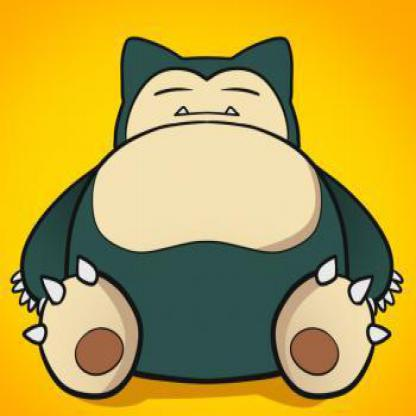Snorlax: (1, 1, 410, 416)
